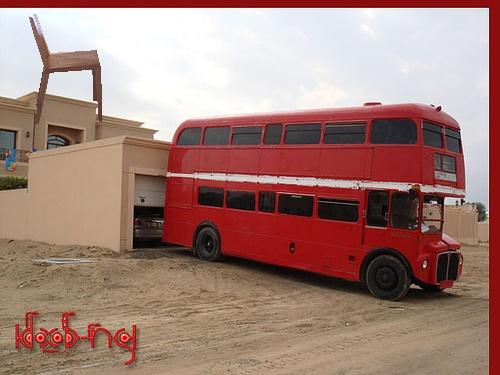tampered: (29, 12, 102, 124)
